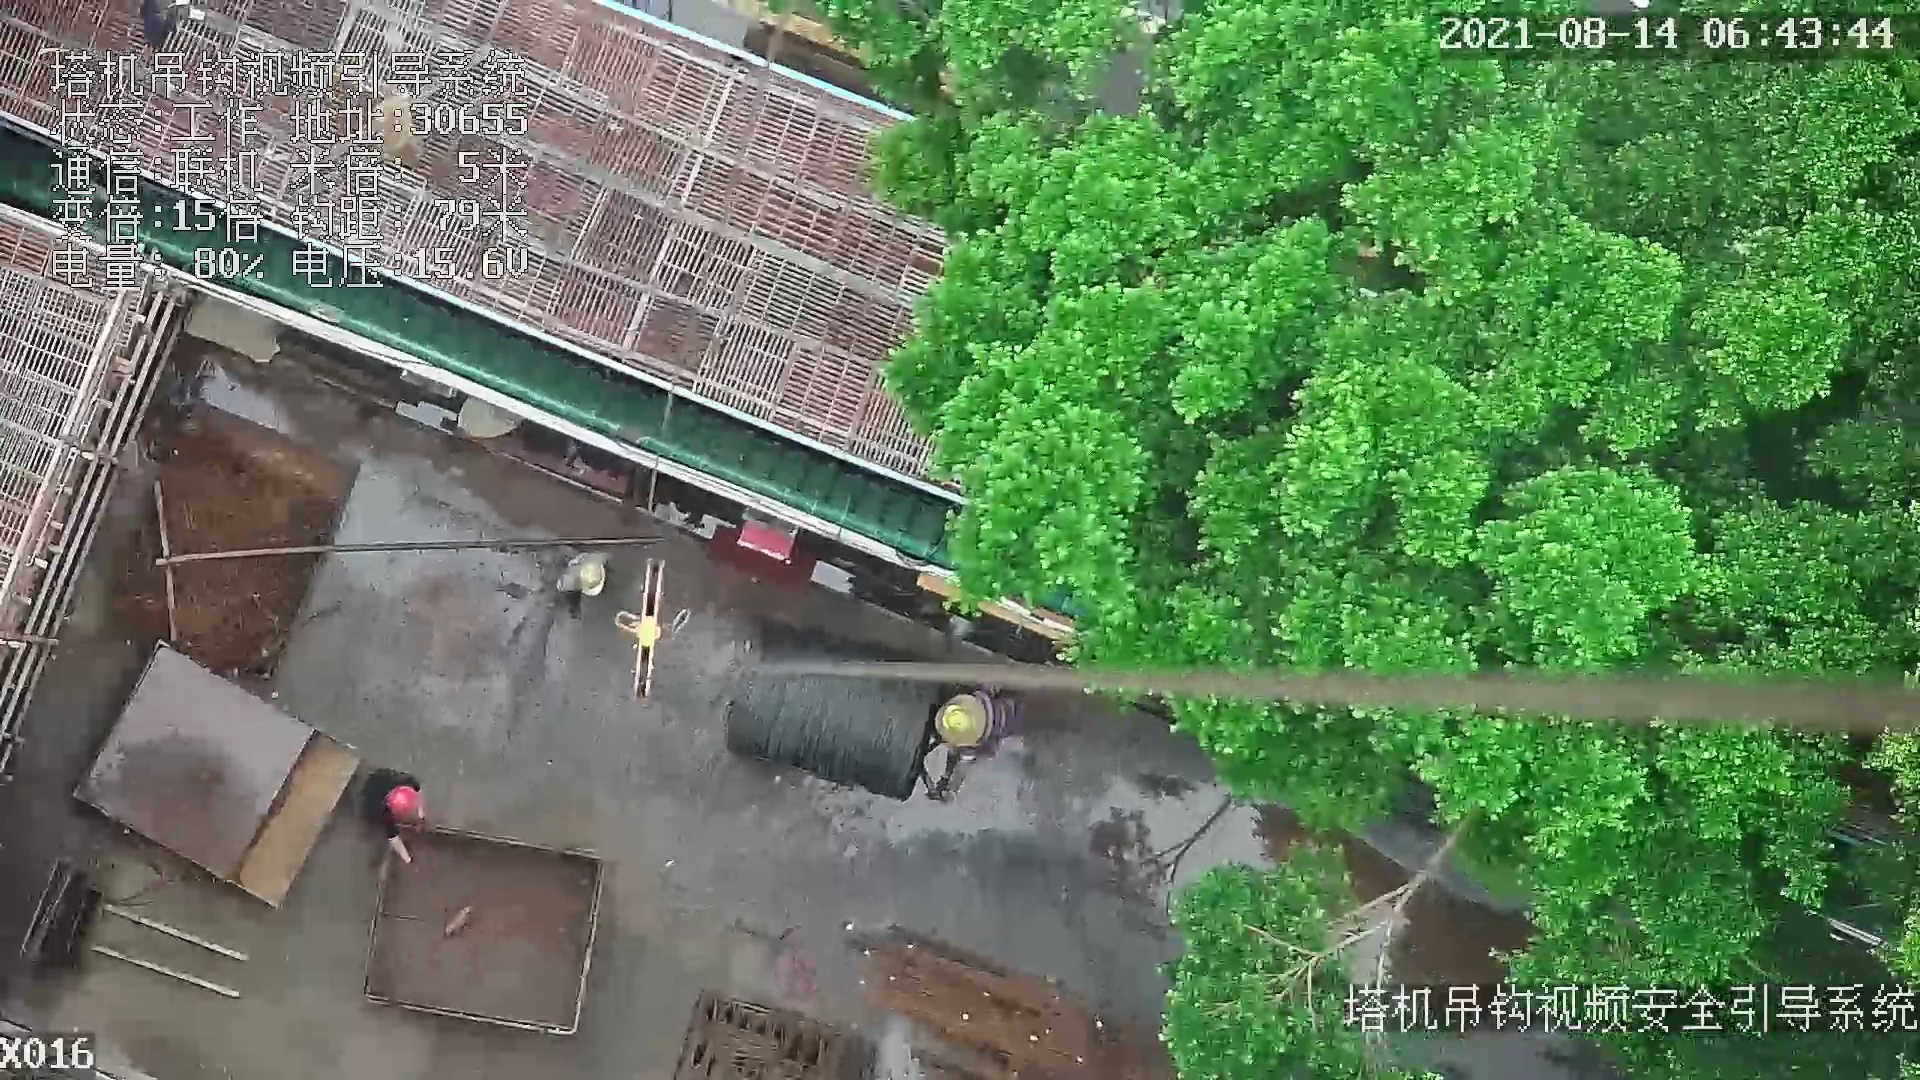helmet: (385, 786, 428, 830), (945, 702, 975, 735), (580, 561, 604, 593)
hook: (612, 556, 674, 703)
person: (360, 749, 428, 864), (928, 690, 1031, 758), (562, 541, 615, 630)
